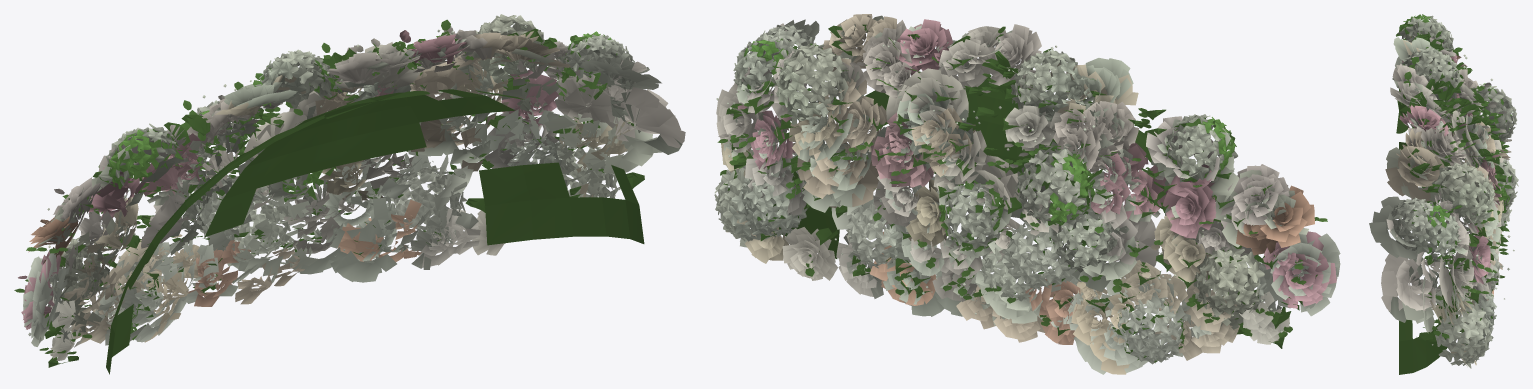
The model's file is vr27n_D_bank_bright_v8.glb.
3 renders of one model, left to right at view 1: azimuth 30°, elevation 25°; view 2: azimuth 150°, elevation 25°; view 3: azimuth 270°, elevation 25°, orthographic. The views are drawn at different scales.
Visible parts, largest first — view 1: petals; view 2: petals; view 3: petals.
Boxes of the visible parts, left/top/right/bottom form: petals: left=14, top=14, right=685, bottom=374; petals: left=714, top=14, right=1340, bottom=374; petals: left=1369, top=14, right=1518, bottom=374.
Size of the model in its own units: 0.0235 by 0.0101 by 0.00602.
